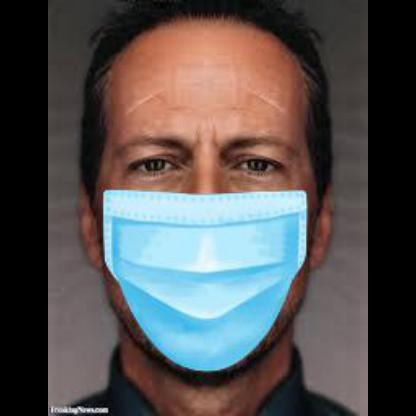Surgical Mask: (99, 102, 315, 360)
